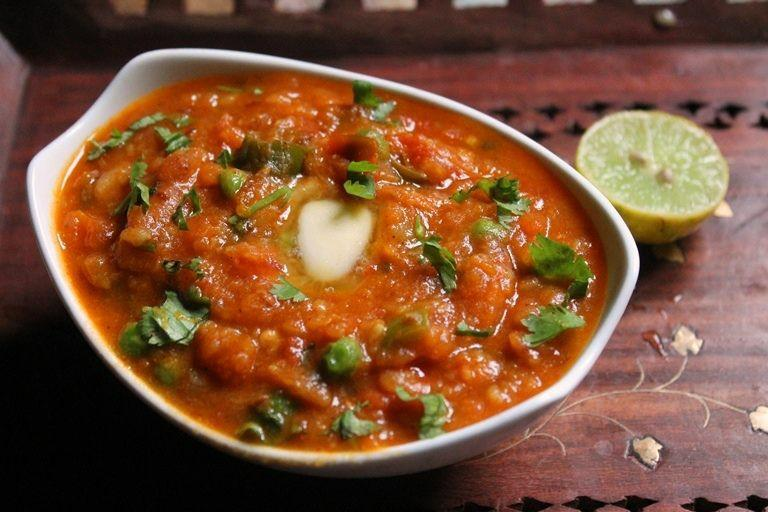RajmaCurry: (60, 75, 604, 445)
